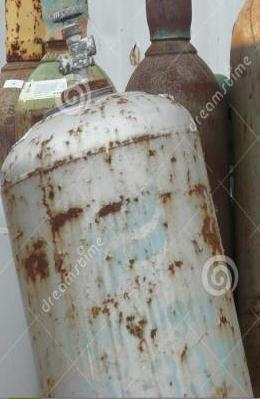cylinder: (1, 1, 260, 399)
